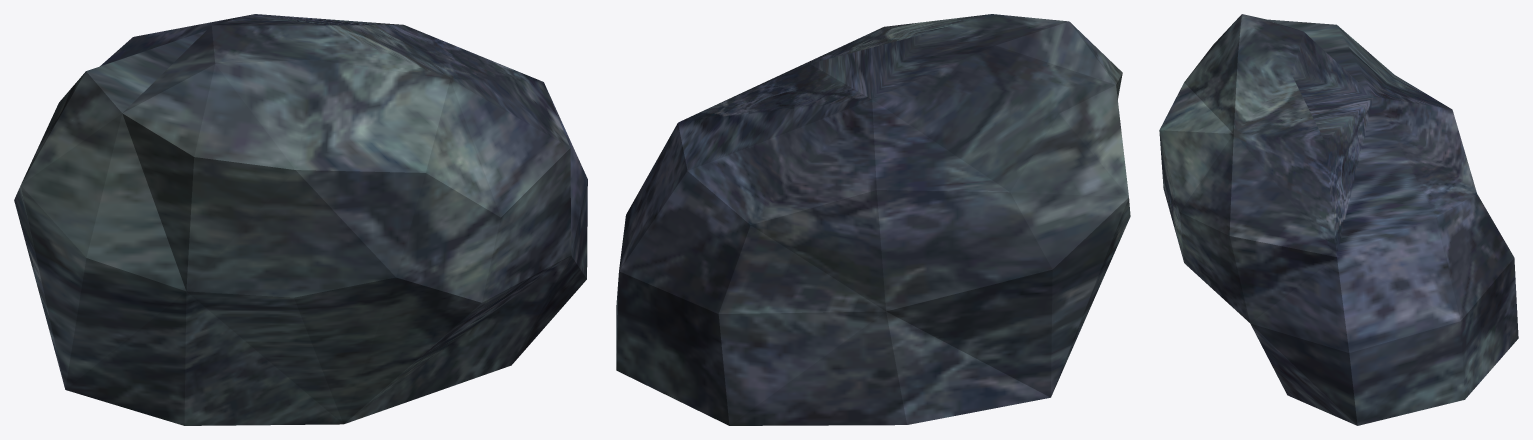
The model's file is C4SNSMALLROCKB.obj.
3 views of the same model, side by side, from view 1: azimuth 30°, elevation 25°; view 2: azimuth 150°, elevation 25°; view 3: azimuth 270°, elevation 25° (orthographic). The views are drawn at different scales.
Parts seen in each view (by area): view 1: Node 0; view 2: Node 0; view 3: Node 0.
Boxes of the visible parts, left/top/right/bottom form: Node 0: left=14, top=14, right=587, bottom=425; Node 0: left=616, top=14, right=1130, bottom=425; Node 0: left=1159, top=14, right=1518, bottom=425.
Bounding box in the file's own units: 1.11 × 0.73 × 0.87.
1 material, 1 textured.
